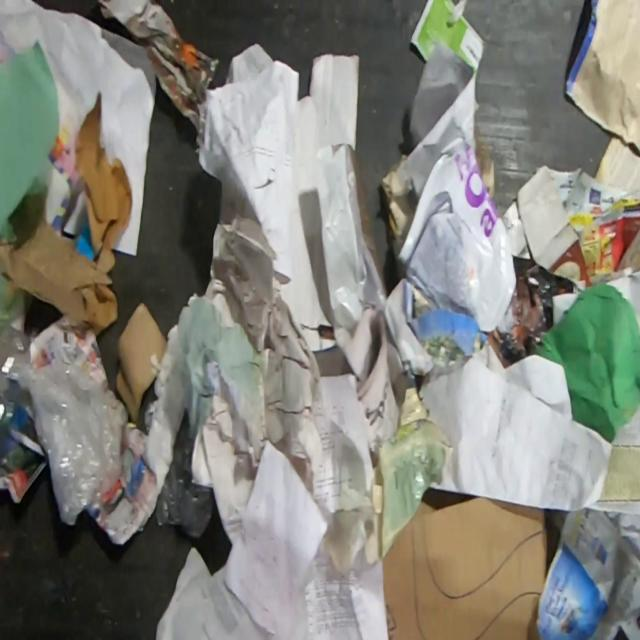cardboard: (318, 383, 455, 577), (382, 494, 549, 640), (0, 214, 118, 339), (74, 94, 132, 259), (514, 163, 590, 284), (113, 301, 168, 424), (308, 52, 360, 151), (380, 153, 416, 239), (475, 127, 496, 199)
rigid_plastic: (398, 136, 516, 333)
soft_plastic: (0, 273, 152, 532), (312, 143, 386, 333), (153, 410, 214, 540)
